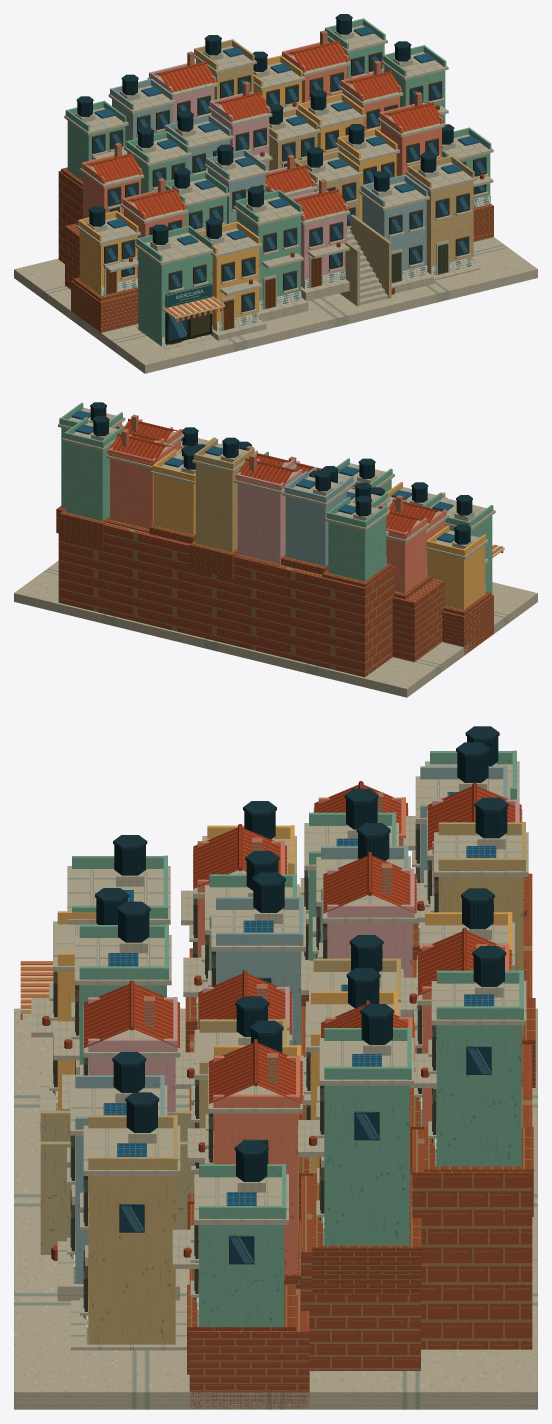
File: hillside-lod2.glb
3 renders of one model, top to bottom at view 1: azimuth 30°, elevation 25°; view 2: azimuth 150°, elevation 25°; view 3: azimuth 270°, elevation 25°, orthographic. The views are drawn at different scales.
Parts seen in each view (by area): view 1: hillside-lod2; view 2: hillside-lod2; view 3: hillside-lod2.
Part boxes in pixels (x1=…): hillside-lod2: x1=14, y1=14, x2=537, y2=373; hillside-lod2: x1=14, y1=402, x2=537, y2=697; hillside-lod2: x1=14, y1=726, x2=537, y2=1409.
Bounding box in the file's own units: 20.84 × 10.25 × 12.
1 material, 1 textured.
